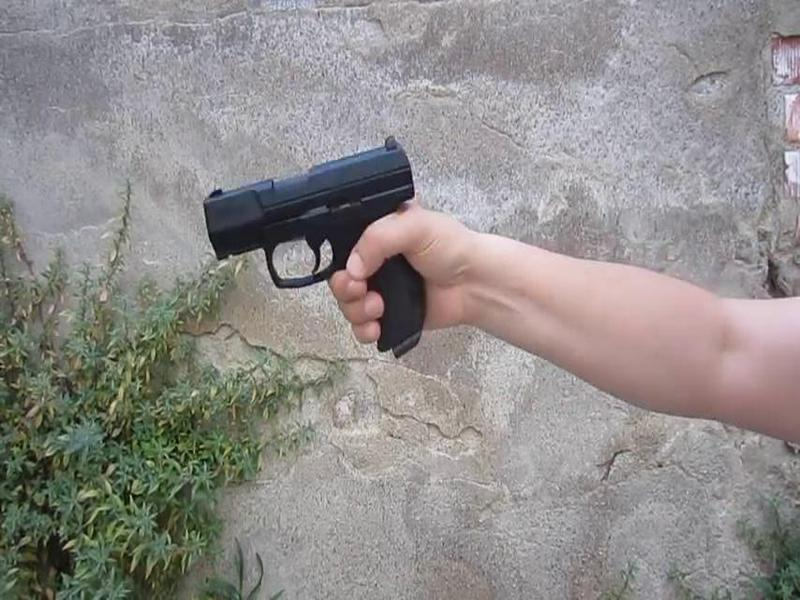Pistola: (177, 124, 431, 348)
